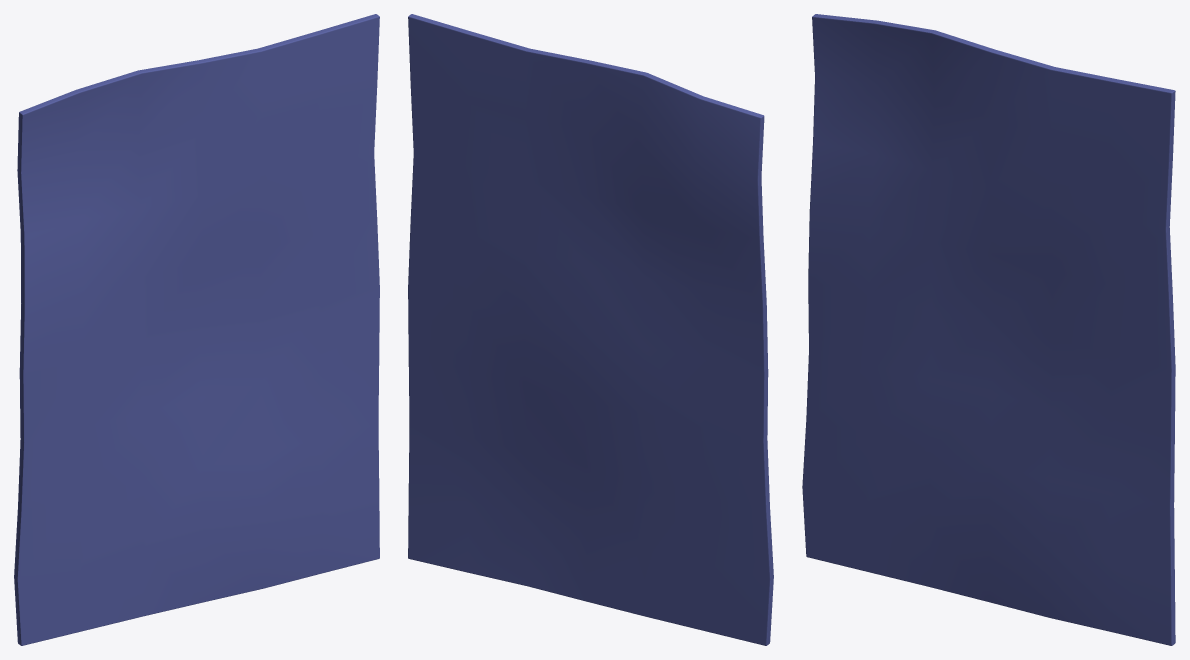
File: Murs_Ruelle_3.fbx
3 views of the same model, side by side, from view 1: azimuth 30°, elevation 25°; view 2: azimuth 150°, elevation 25°; view 3: azimuth 330°, elevation 25° (orthographic).
Visible parts, largest first — view 1: pPlane2; view 2: pPlane2; view 3: pPlane2.
Boxes of the visible parts, x1=… form: pPlane2: x1=14, y1=14, x2=379, y2=645; pPlane2: x1=408, y1=14, x2=773, y2=645; pPlane2: x1=802, y1=14, x2=1175, y2=645.
Size of the model in its own units: 295 by 421 by 22.12.
